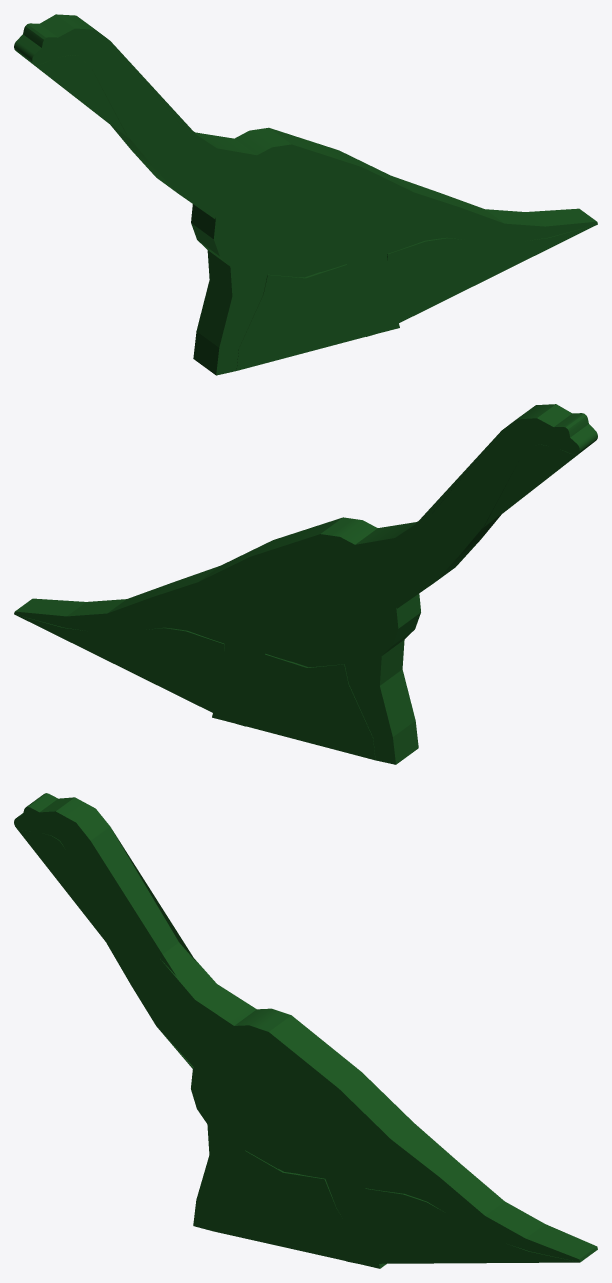
Rendered from Dinosaur.fbx.
3 views of the same model, one above another, from view 1: azimuth 30°, elevation 25°; view 2: azimuth 150°, elevation 25°; view 3: azimuth 330°, elevation 25° (orthographic).
Parts seen in each view (by area): view 1: pCube1; view 2: pCube1; view 3: pCube1.
Part boxes in pixels (x1=…): pCube1: x1=14, y1=14, x2=597, y2=375; pCube1: x1=14, y1=404, x2=597, y2=764; pCube1: x1=14, y1=793, x2=597, y2=1268.
Size of the model in its own units: 57.4 by 36.83 by 4.05.
